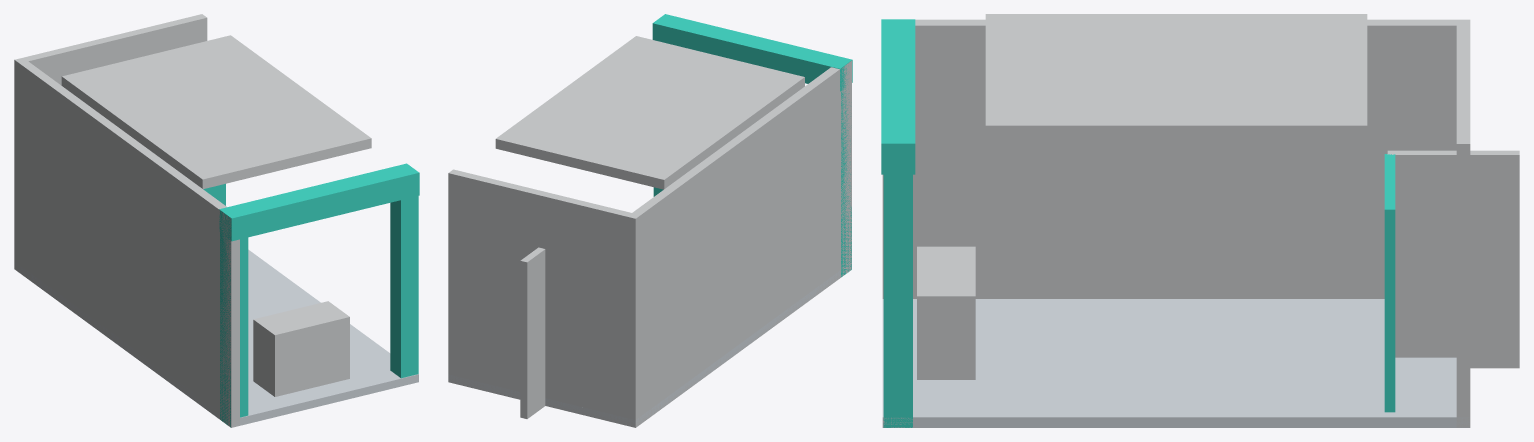
The picture shows the model from 3 angles, left to right: view 1: azimuth 30°, elevation 25°; view 2: azimuth 150°, elevation 25°; view 3: azimuth 270°, elevation 25°; orthographic projection. The views are drawn at different scales.
Parts seen in each view (by area): view 1: Exhibition Booth Concept; view 2: Exhibition Booth Concept; view 3: Exhibition Booth Concept.
Part boxes in pixels (x1,y1,x2,y2): Exhibition Booth Concept: (14, 14, 419, 427); Exhibition Booth Concept: (448, 14, 852, 427); Exhibition Booth Concept: (881, 14, 1519, 427).
Size of the model in its own units: 3 by 3.34 by 6.52.
